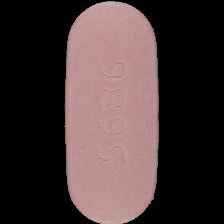63739-547: (0, 0, 224, 224)
